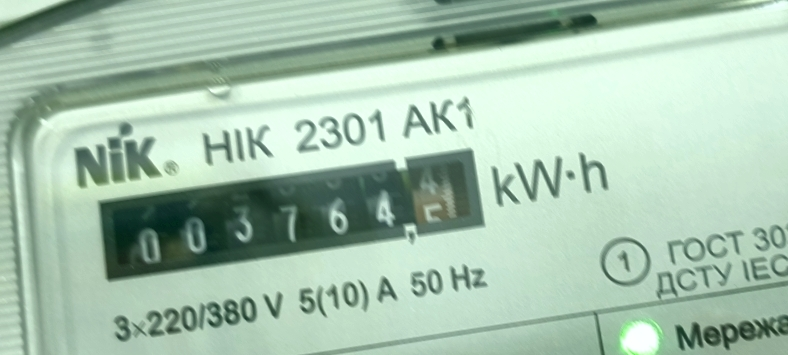0: (181, 213, 209, 255), (134, 224, 163, 264)
3: (228, 202, 256, 244)
4: (372, 186, 397, 228), (415, 162, 441, 196)
5: (420, 199, 445, 224)
6: (325, 194, 350, 235)
7: (276, 199, 305, 244)
screen: (79, 128, 501, 296)
